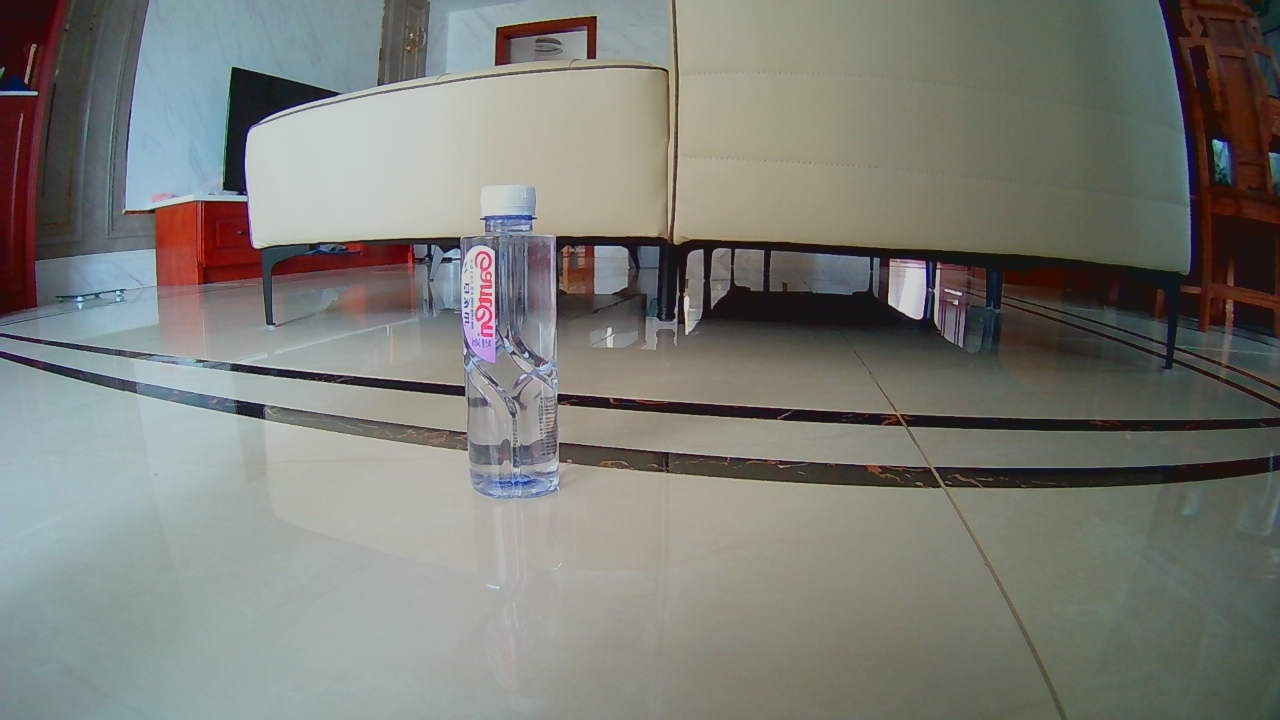water: (460, 187, 562, 501)
